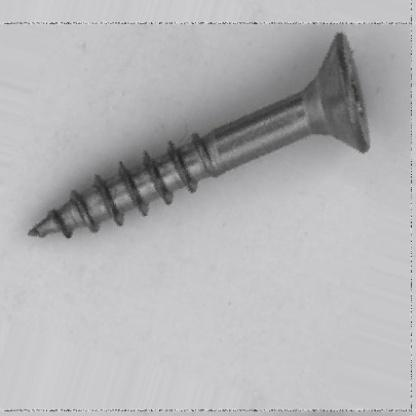metal: (27, 32, 371, 241)
